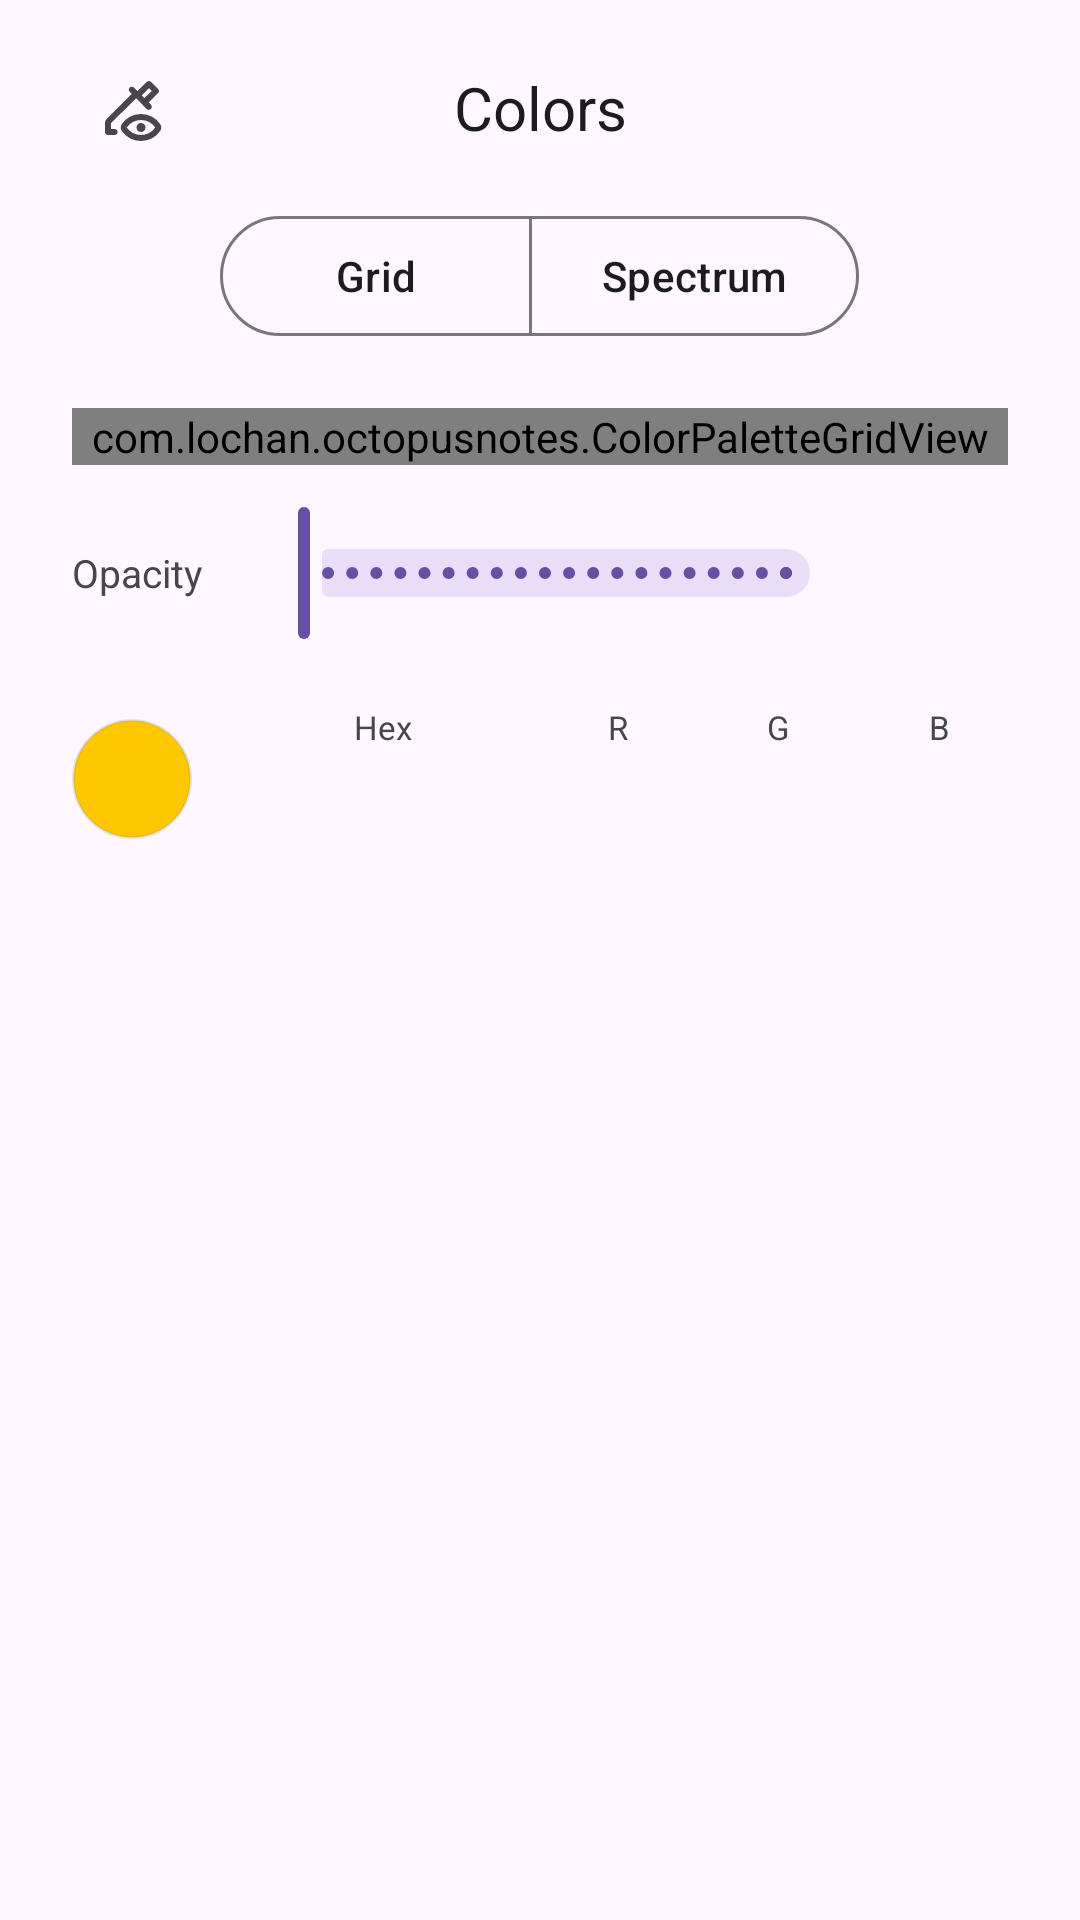

Icon bounding boxes for this 1080px×1920px phone screenshot, format {"left": x1, "top": y1, "right": x2, "bottom": y2}:
Pick a colour from the page: {"left": 105, "top": 81, "right": 162, "bottom": 141}
